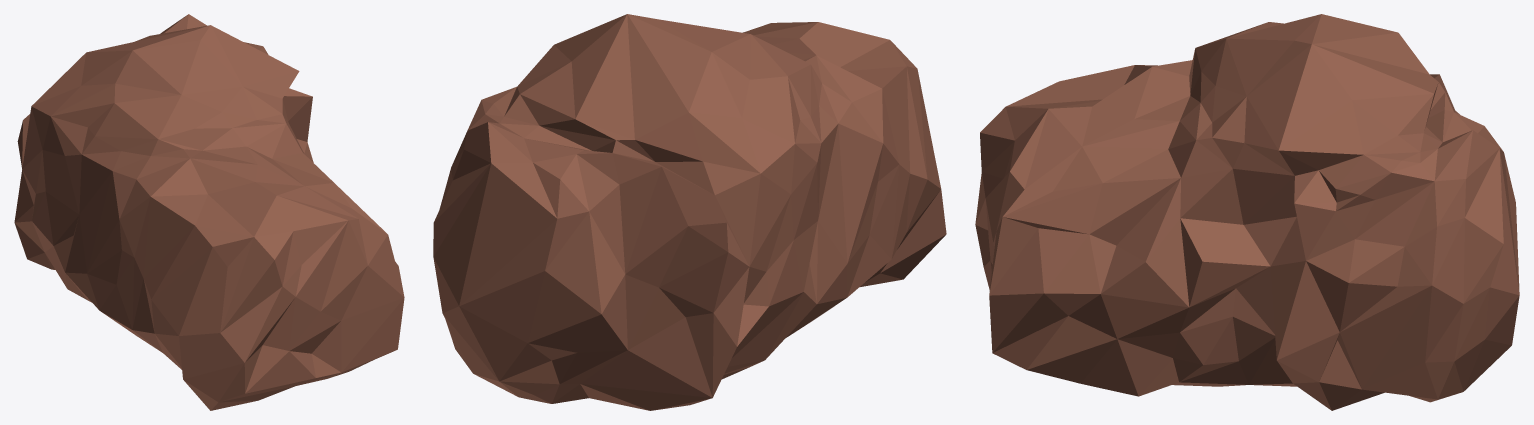
Rendered from Rock_Two_1128.fbx.
The picture shows the model from 3 angles, left to right: view 1: azimuth 30°, elevation 25°; view 2: azimuth 150°, elevation 25°; view 3: azimuth 270°, elevation 25°; orthographic projection. The views are drawn at different scales.
Parts seen in each view (by area): view 1: Rock.002; view 2: Rock.002; view 3: Rock.002.
Part boxes in pixels (left/top/right/bottom): Rock.002: left=14, top=14, right=404, bottom=410; Rock.002: left=433, top=14, right=946, bottom=410; Rock.002: left=975, top=14, right=1519, bottom=410.
Size of the model in its own units: 2443 by 2522 by 3724.
